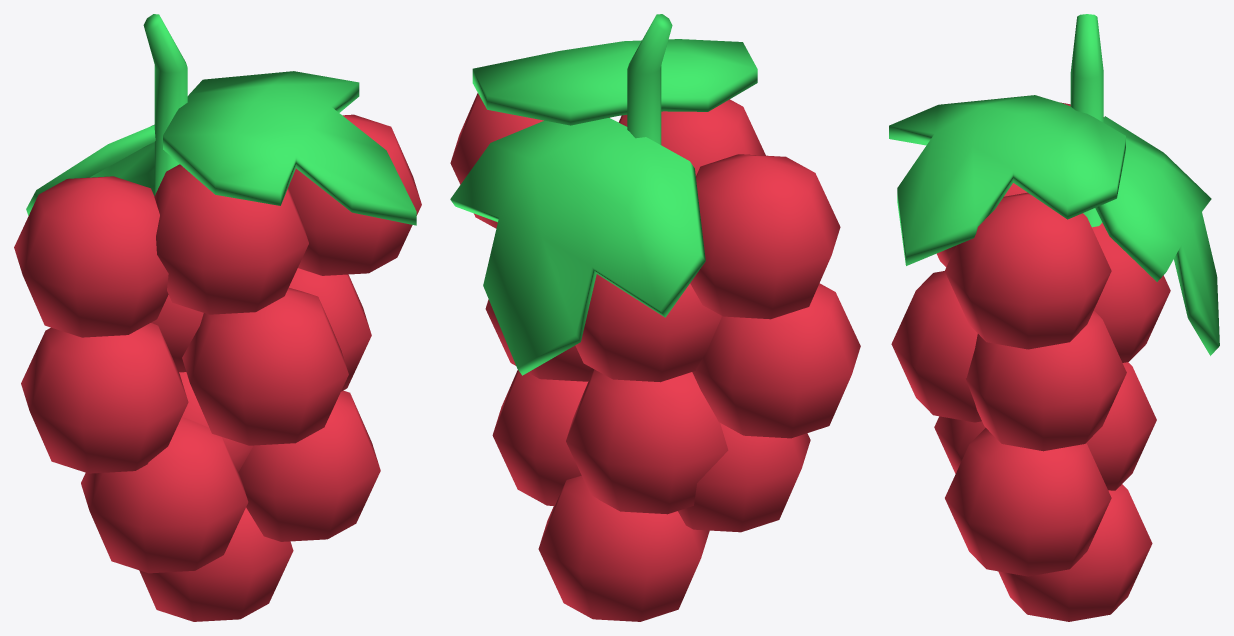
The model's file is uva_rossa.fbx.
The picture shows the model from 3 angles, left to right: view 1: azimuth 30°, elevation 25°; view 2: azimuth 150°, elevation 25°; view 3: azimuth 270°, elevation 25°; orthographic projection. The views are drawn at different scales.
Parts seen in each view (by area): view 1: uva_rossa; view 2: uva_rossa; view 3: uva_rossa.
Part boxes in pixels (bbox=[...]): uva_rossa: bbox=[14, 14, 421, 621]; uva_rossa: bbox=[450, 14, 860, 621]; uva_rossa: bbox=[889, 14, 1219, 621].
Size of the model in its own units: 138 by 209 by 107.
